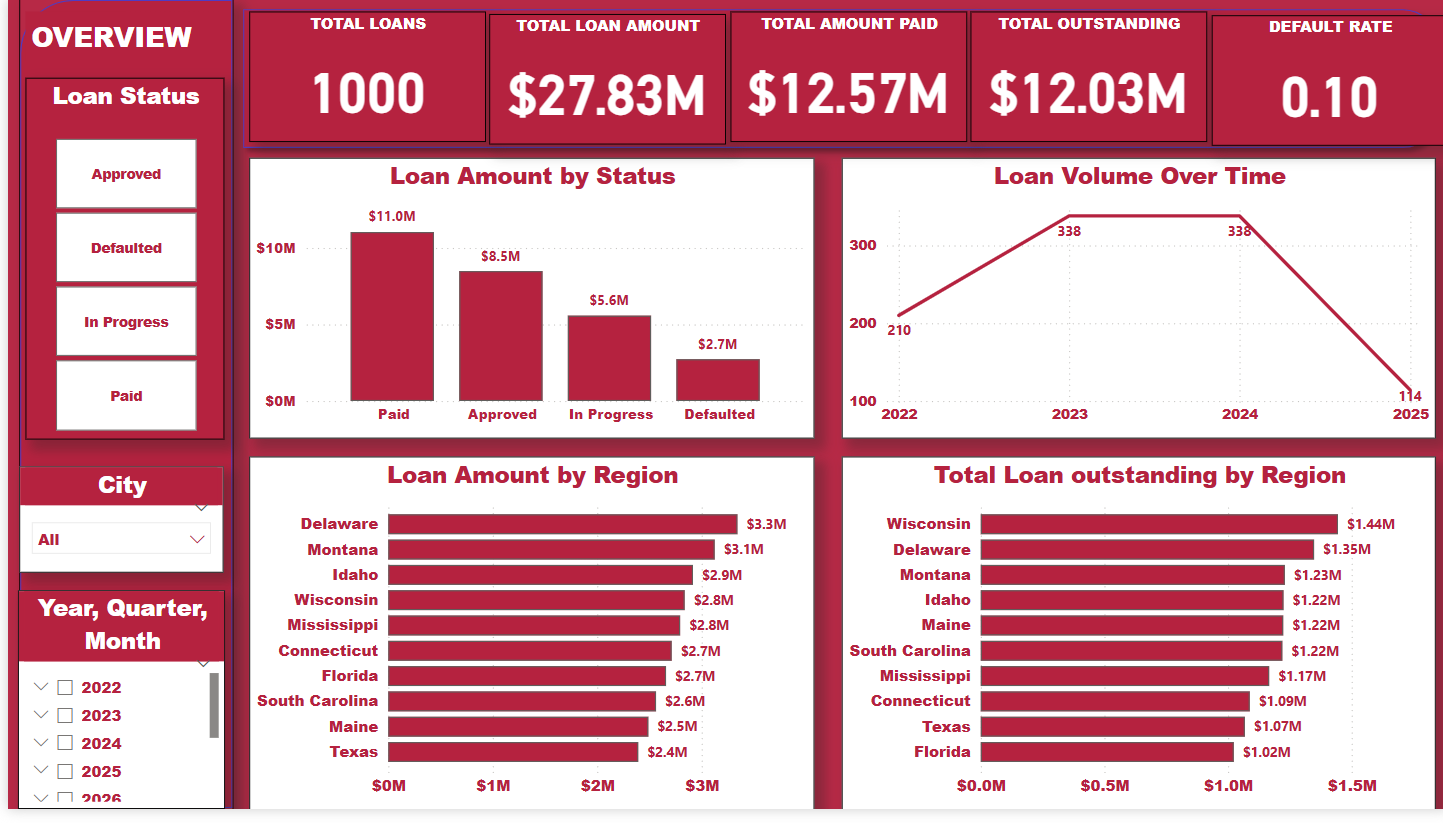

What the dashboard file says about the page in this screenshot:
{"tool":"powerbi","page":{"name":"Page 1","canvas":[1280,720],"ordinal":0},"visuals":[{"type":"shape","box":[9.6,0,190.7,720.4],"z":0},{"type":"shape","box":[200.3,0,1079.9,141.3],"z":1000},{"type":"card","title":"TOTAL LOANS","fields":{"Values":["fact_loans.TotalLoans"]},"box":[214.3,11.4,210,115.7],"z":2000},{"type":"columnChart","title":"Loan Amount by Status","fields":{"Category":["fact_loans.Status"],"Y":["Sum(fact_loans.LoanAmount)"]},"box":[214.1,141.3,502.2,249.7],"z":7000},{"type":"lineChart","title":"Loan Volume Over Time","fields":{"Y":["CountNonNull(fact_loans.LoanID)"],"Category":["Calender.Date.Variation.Date Hierarchy.Year"]},"box":[741,141.3,528.3,249.7],"z":8000},{"type":"barChart","title":"Loan Amount by Region","fields":{"Category":["dim_branch.Region"],"Y":["fact_loans.TotalLoanAmount"]},"box":[214.1,406.2,502.2,314.2],"z":9000},{"type":"barChart","title":"Total Loan outstanding  by Region","fields":{"Category":["dim_branch.Region"],"Y":["fact_loans.TotalOutstanding"]},"box":[741,406.2,528.3,314.2],"z":10000},{"type":"slicer","title":"Loan Status","fields":{"Values":["fact_loans.Status"]},"box":[15.7,70,177.1,321.4],"z":11000},{"type":"slicer","title":"City","fields":{"Values":["dim_branch.City"]},"box":[10,415.7,181.4,94.3],"z":11001},{"type":"slicer","title":"Year, Quarter, Month","fields":{"Values":["Calender.Date.Variation.Date Hierarchy.Year","Calender.Date.Variation.Date Hierarchy.Quarter","Calender.Date.Variation.Date Hierarchy.Month"]},"box":[8.6,525.7,184.3,194.3],"z":11002},{"type":"textbox","box":[15.7,11.4,177.1,44.3],"z":11003},{"type":"card","title":"TOTAL LOAN AMOUNT","fields":{"Values":["Sum(fact_loans.LoanAmount)"]},"box":[428.2,12.9,210,115.7],"z":11004},{"type":"card","title":"TOTAL AMOUNT PAID","fields":{"Values":["Sum(fact_loans.AmountPaid)"]},"box":[642.1,11.4,210,115.7],"z":11005},{"type":"card","title":"TOTAL OUTSTANDING","fields":{"Values":["Sum(fact_loans.OutstandingBalance)"]},"box":[856.1,11.4,210,115.7],"z":11006},{"type":"card","title":"DEFAULT RATE","fields":{"Values":["fact_loans.DefaultRate"]},"box":[1070,14.3,210,115.7],"z":11007}]}

Visuals, with their boxes in screenshot pixels (x1, y1, x2, y2), scaled from the page's 1280x720 canvas onto the 1443x823 screenshot:
shape: x1=11, y1=0, x2=226, y2=822
shape: x1=226, y1=0, x2=1442, y2=162
"TOTAL LOANS" card: x1=242, y1=13, x2=478, y2=145
"Loan Amount by Status" columnChart: x1=241, y1=162, x2=808, y2=447
"Loan Volume Over Time" lineChart: x1=835, y1=162, x2=1431, y2=447
"Loan Amount by Region" barChart: x1=241, y1=464, x2=808, y2=822
"Total Loan outstanding  by Region" barChart: x1=835, y1=464, x2=1431, y2=822
"Loan Status" slicer: x1=18, y1=80, x2=217, y2=447
"City" slicer: x1=11, y1=475, x2=216, y2=583
"Year, Quarter, Month" slicer: x1=10, y1=601, x2=217, y2=822
textbox: x1=18, y1=13, x2=217, y2=64
"TOTAL LOAN AMOUNT" card: x1=483, y1=15, x2=719, y2=147
"TOTAL AMOUNT PAID" card: x1=724, y1=13, x2=961, y2=145
"TOTAL OUTSTANDING" card: x1=965, y1=13, x2=1202, y2=145
"DEFAULT RATE" card: x1=1206, y1=16, x2=1442, y2=149
